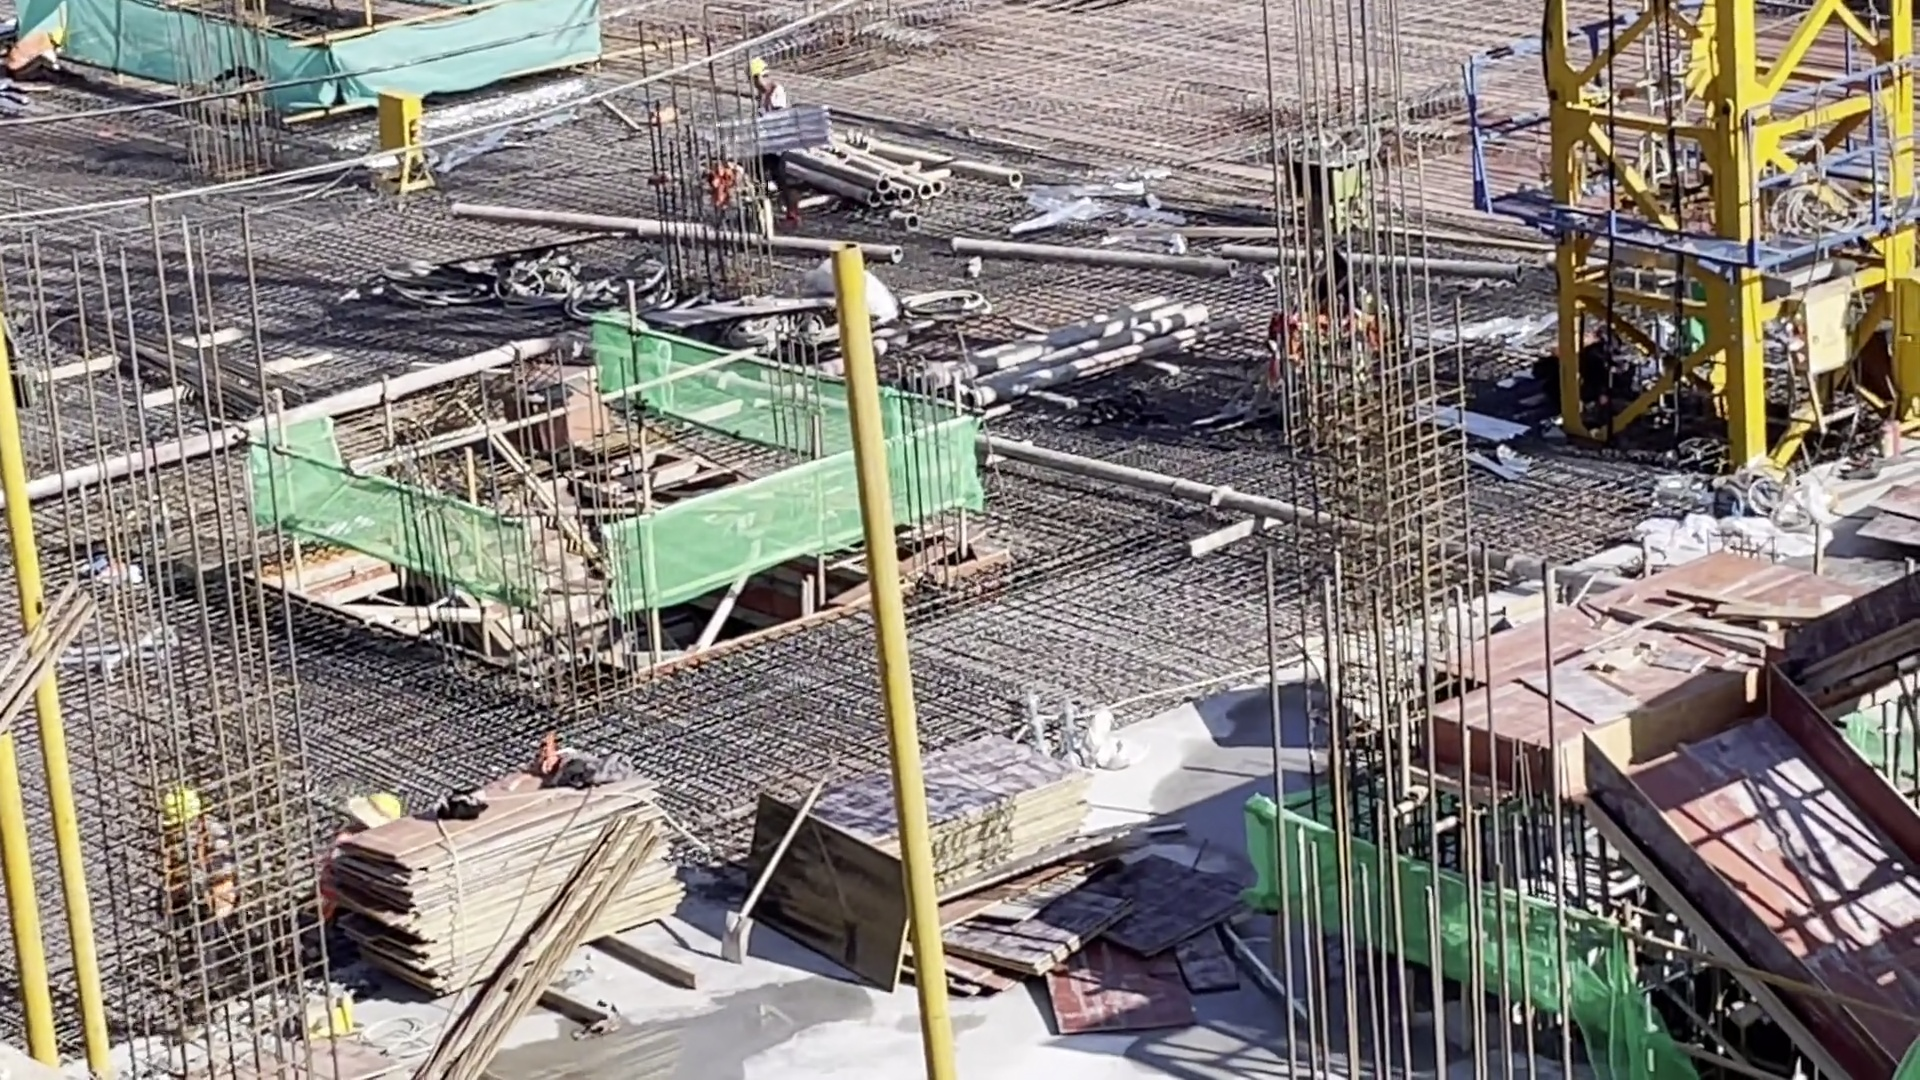helmet: (363, 782, 406, 831), (164, 786, 201, 831), (738, 52, 778, 79)
person: (151, 774, 246, 952), (736, 51, 814, 228)
